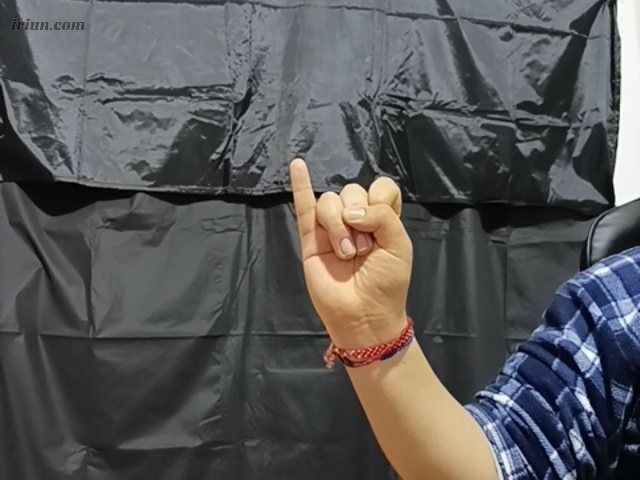I: (284, 160, 415, 317)
